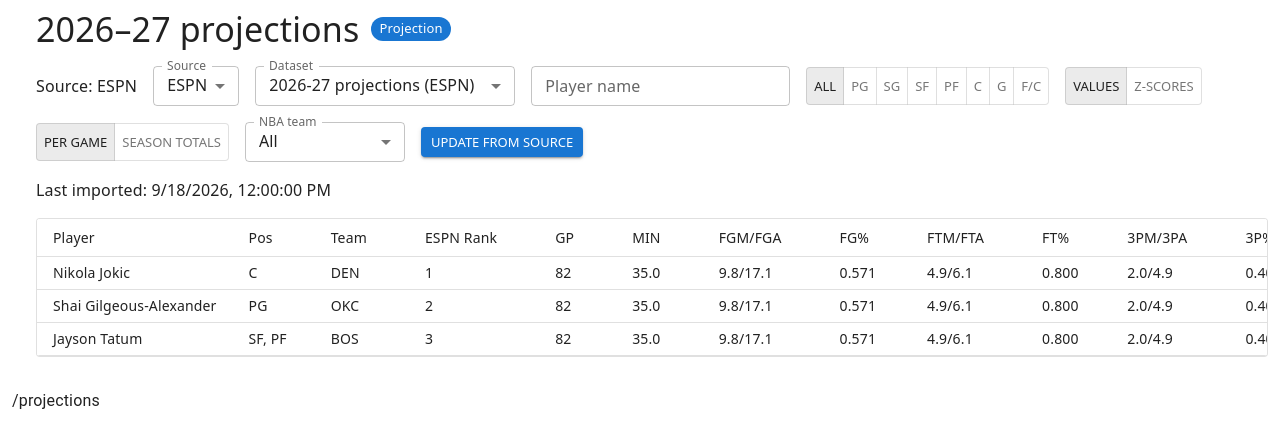
position C keeps centers
The width and height of the screenshot is (1285, 426).
Expected: the text "Nikola Jokic" is shown, [37,257,232,290]
Click the button "C" at (978, 86), box [966,67,990,105]
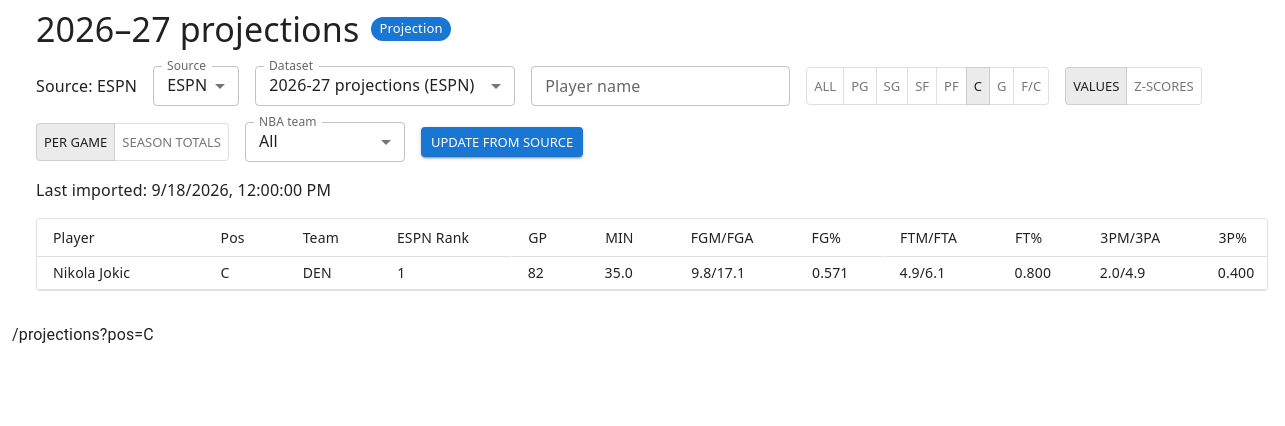
Expected: the text "Shai Gilgeous-Alexander" is gone
Expected: the text "Jayson Tatum" is gone
Expected: the text with test id "location" reads "/projections?pos=C", [12,325,154,344]
